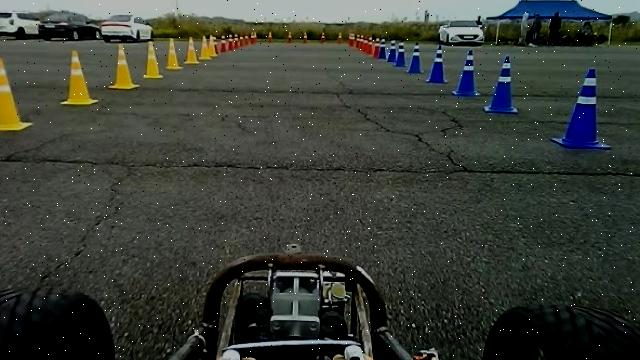blue cone: (552, 67, 612, 148), (483, 54, 519, 113), (451, 48, 481, 96), (426, 44, 451, 84), (406, 41, 425, 74)
yellow cone: (0, 56, 34, 132), (60, 50, 100, 105), (108, 43, 141, 89), (144, 40, 164, 78), (165, 37, 184, 69), (184, 36, 201, 64)
